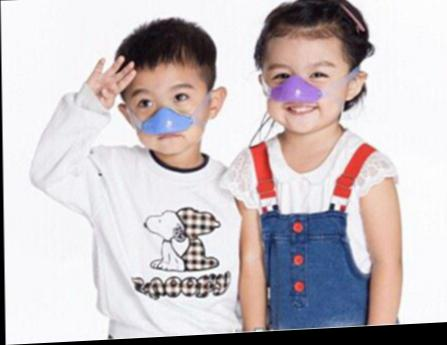WRONG: (125, 81, 199, 157), (263, 62, 336, 137)
